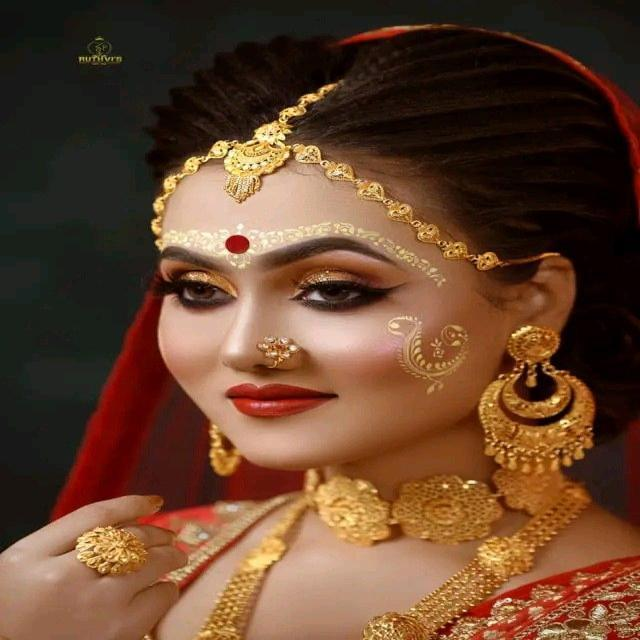Earring: (466, 319, 604, 483), (198, 409, 238, 482)
